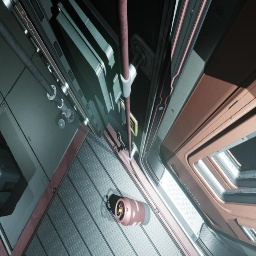EmergencyPhone ,: (117, 97, 139, 136)
NitrogenTank ,: (115, 197, 150, 226)
